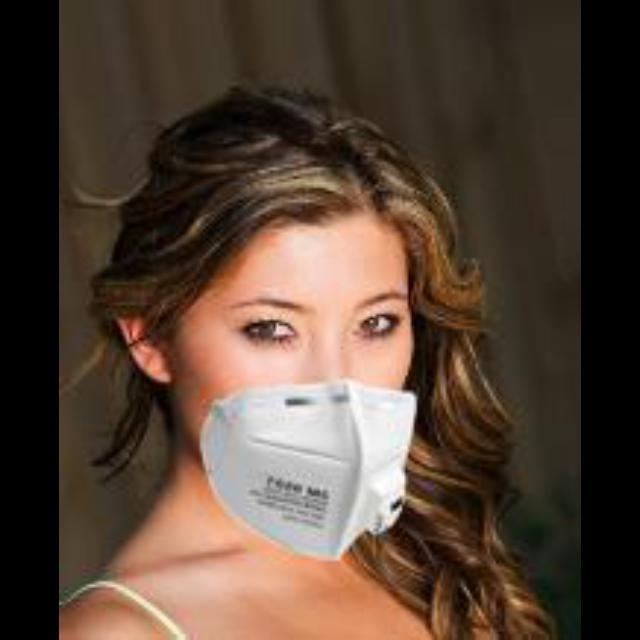suspicion: (119, 94, 459, 540)
